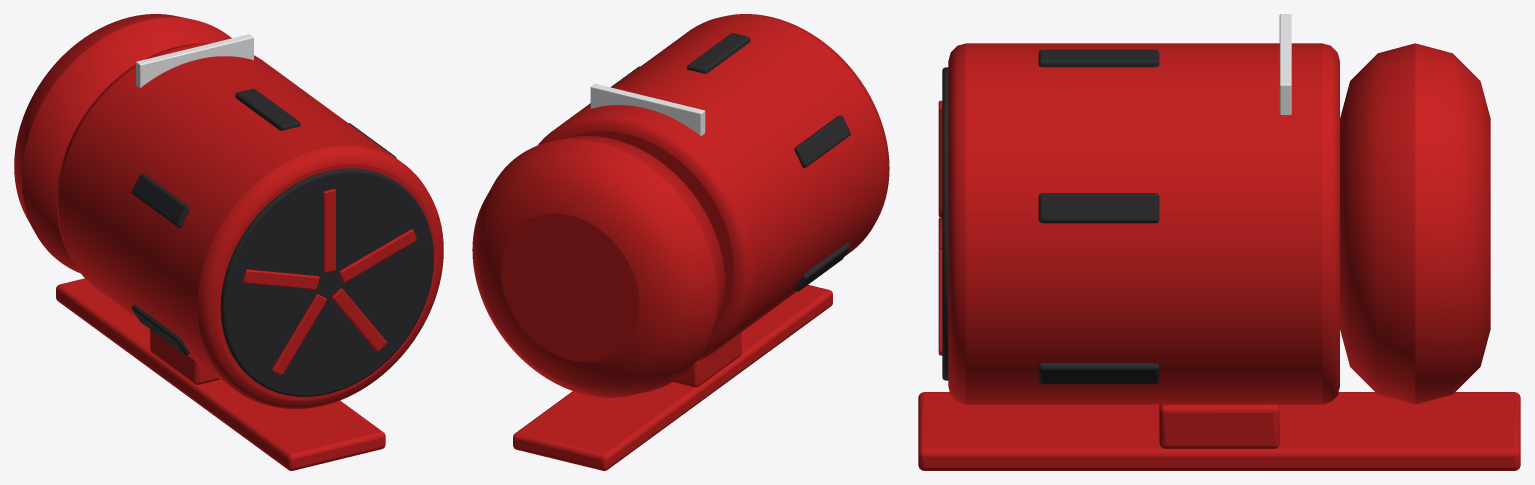
File: siren.glb
3 renders of one model, left to right at view 1: azimuth 30°, elevation 25°; view 2: azimuth 150°, elevation 25°; view 3: azimuth 270°, elevation 25°, orthographic. The views are drawn at different scales.
Visible parts, largest first — view 1: housing, cover, lever; view 2: housing, lever, cover; view 3: housing, lever, cover.
Boxes of the visible parts, x1,y1,x2,y2 form: housing: [14, 14, 443, 409]; cover: [131, 88, 433, 396]; lever: [56, 278, 385, 470]; housing: [472, 14, 889, 397]; lever: [513, 284, 832, 470]; cover: [611, 33, 850, 291]; housing: [948, 14, 1490, 404]; lever: [918, 392, 1520, 470]; cover: [938, 49, 1159, 384].
Size of the model in its own units: 0.06 by 0.072 by 0.1.
